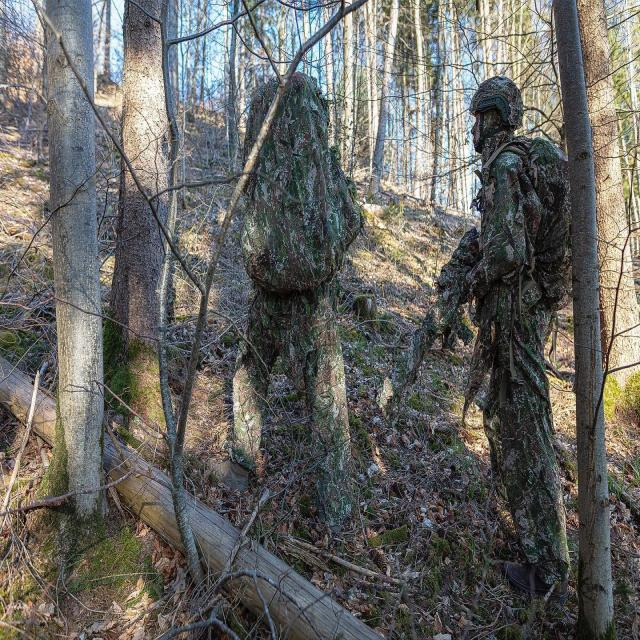Human: (408, 79, 572, 602), (232, 74, 364, 561)
